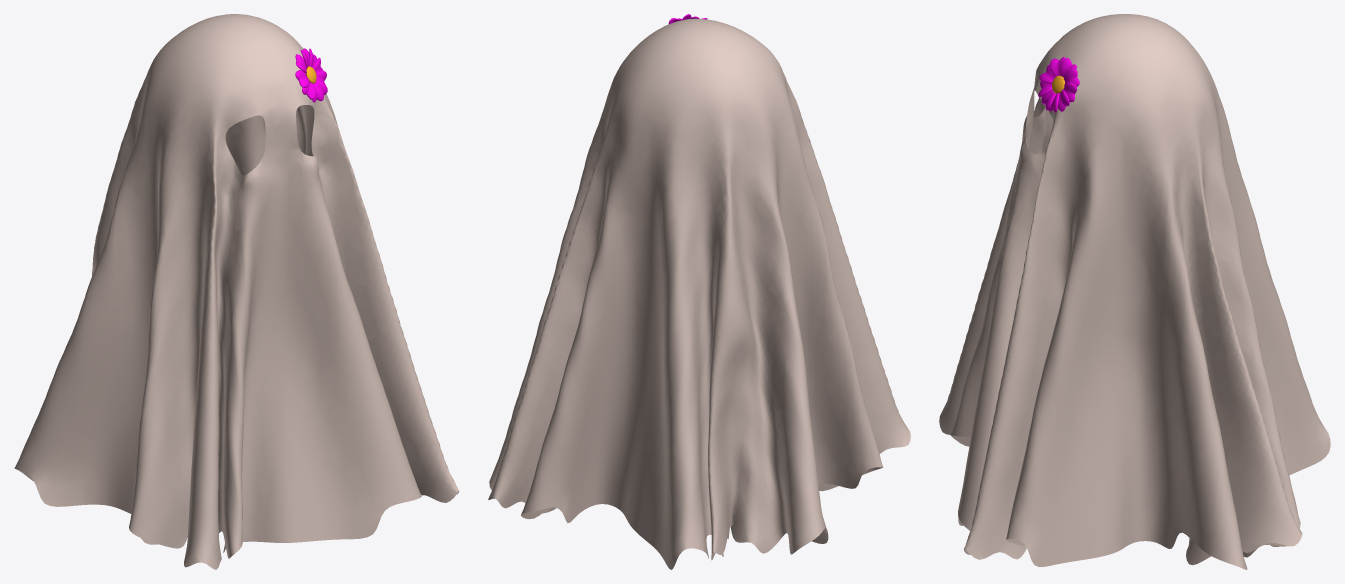
Rendered from GhostFlower.fbx.
The picture shows the model from 3 angles, left to right: view 1: azimuth 30°, elevation 25°; view 2: azimuth 150°, elevation 25°; view 3: azimuth 270°, elevation 25°; orthographic projection. The views are drawn at different scales.
Parts seen in each view (by area): view 1: Plane.004; view 2: Plane.004; view 3: Plane.004.
Part boxes in pixels (<box>): Plane.004: <box>14,14,459,569</box>; Plane.004: <box>488,14,910,569</box>; Plane.004: <box>939,14,1330,569</box>.
Bounding box in the file's own units: 99.43 × 139 × 101.
